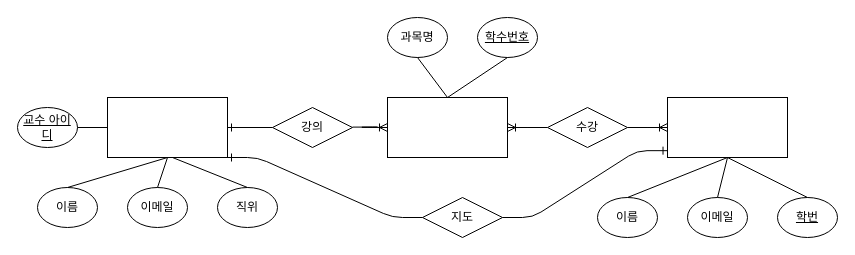
Some shapes in this 855 by 255 pixel diagram are drawn without their labels. The centre of each missing label's shape, as x and y in pixels:
과목: point (447, 127)
교수: point (167, 127)
학생: point (727, 127)
